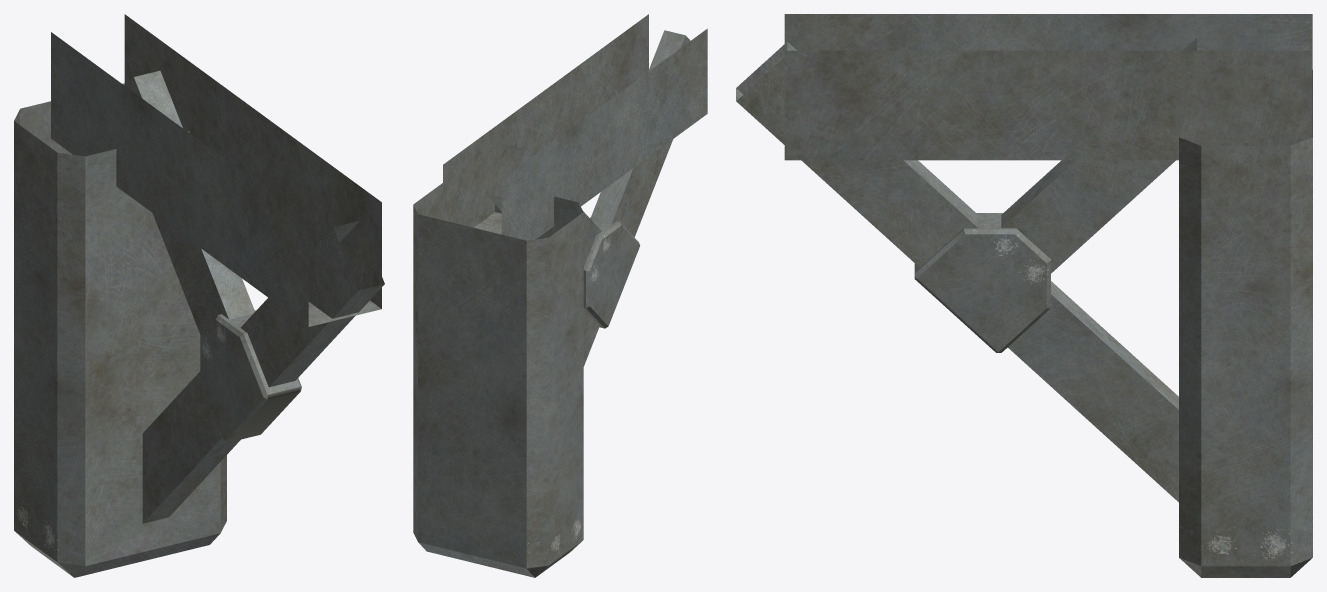
Rendered from Ob_UnderPlatformConnector_RC.fbx.
3 renders of one model, left to right at view 1: azimuth 30°, elevation 25°; view 2: azimuth 150°, elevation 25°; view 3: azimuth 270°, elevation 25°, orthographic. The views are drawn at different scales.
Visible parts, largest first — view 1: Ob_UnderPlatformConnector_RC; view 2: Ob_UnderPlatformConnector_RC; view 3: Ob_UnderPlatformConnector_RC.
Part boxes in pixels (x1,y1,x2,y2): Ob_UnderPlatformConnector_RC: (14, 14, 384, 577); Ob_UnderPlatformConnector_RC: (413, 14, 707, 577); Ob_UnderPlatformConnector_RC: (736, 14, 1312, 577).
Size of the model in its own units: 156 by 439 by 448.
